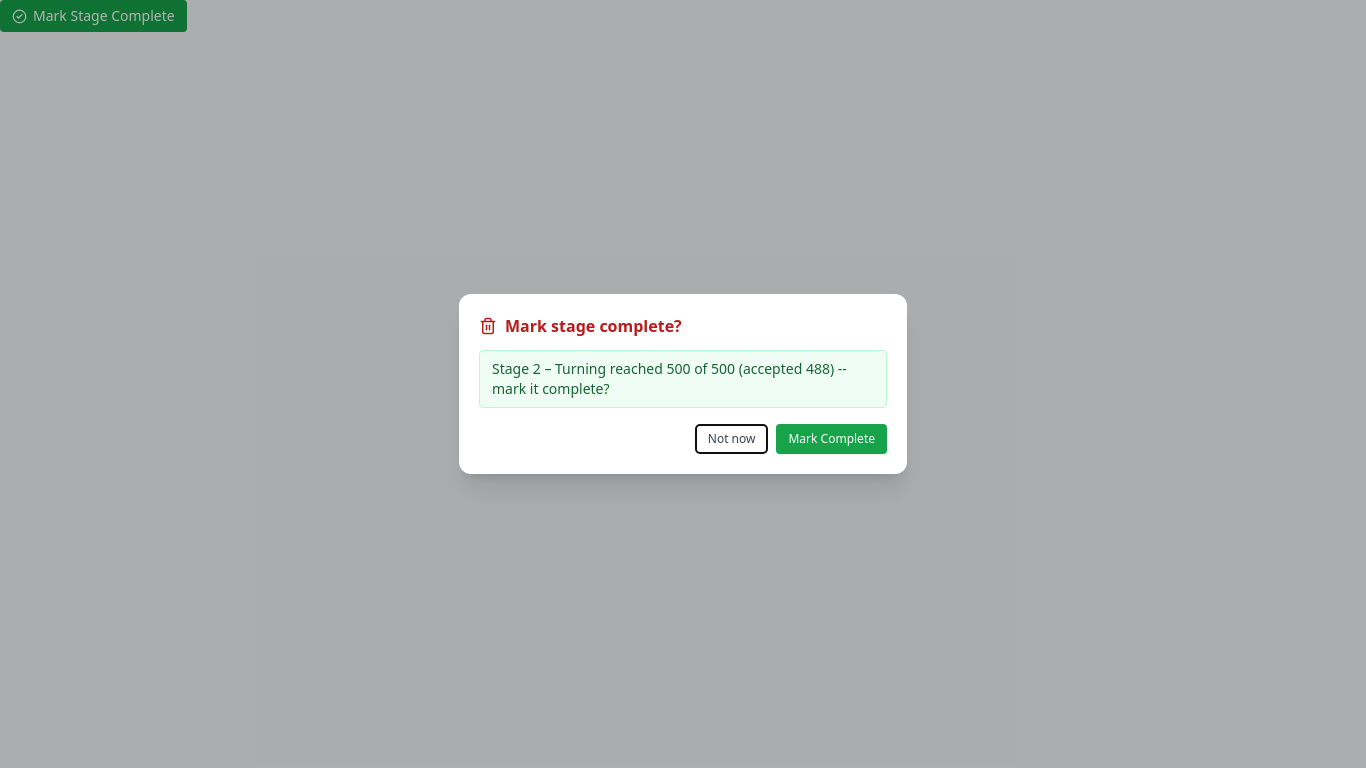
Test: StageCompleteControl › supervisor: the prompt opens by itself once, with N of N (accepted M); Not now closes it and it does not come back
Expected: the text "Stage 2 – Turning reached 500 of 500 (accepted 488) -- mark it complete?" is shown, [479,350,887,408]
Click the button "Not now" at [732, 439], box [695,424,768,454]
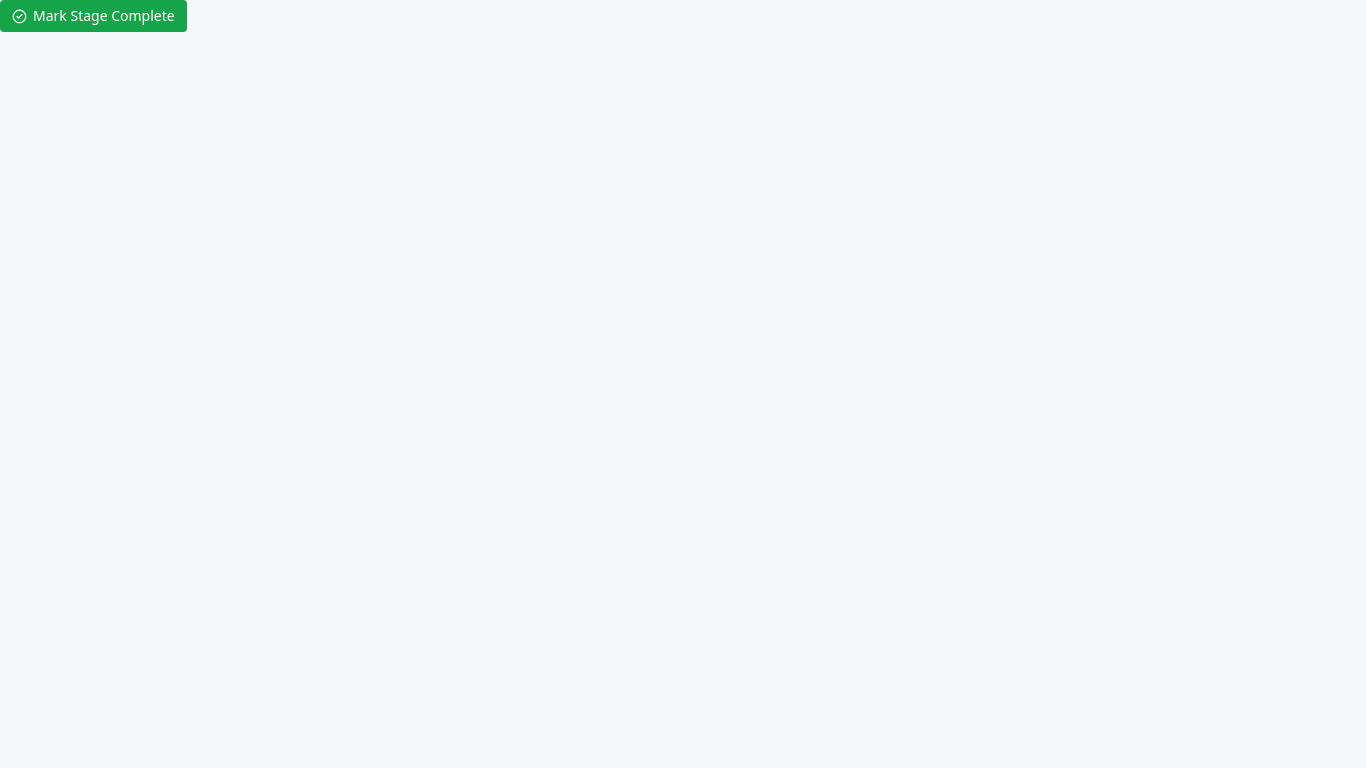
Expected: the text "mark it complete?" is gone
